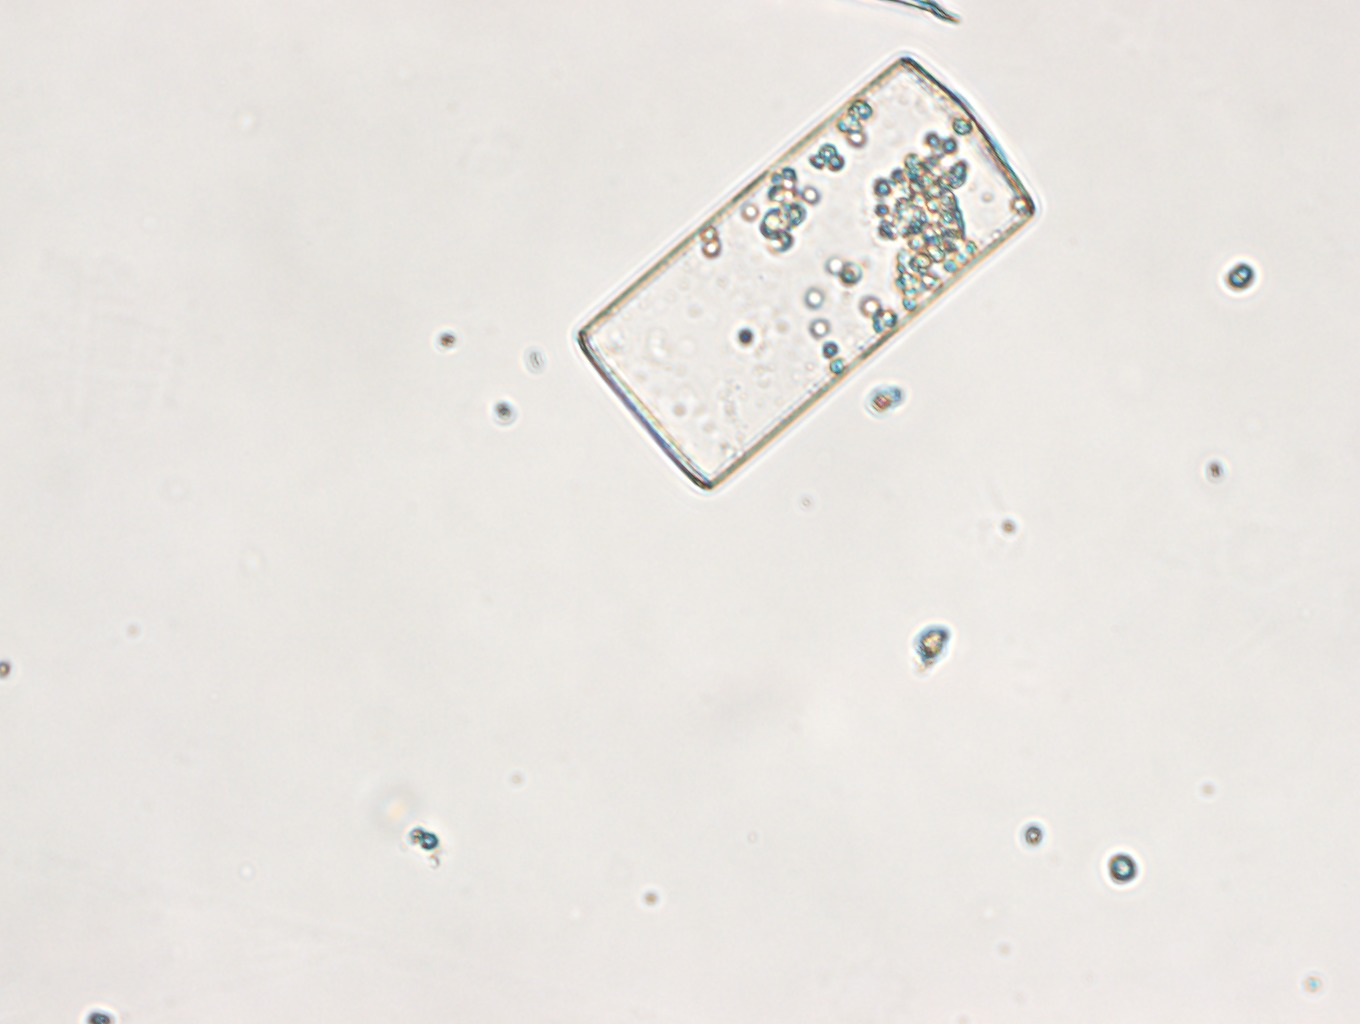guinardia flaccida: (566, 57, 1056, 496)
